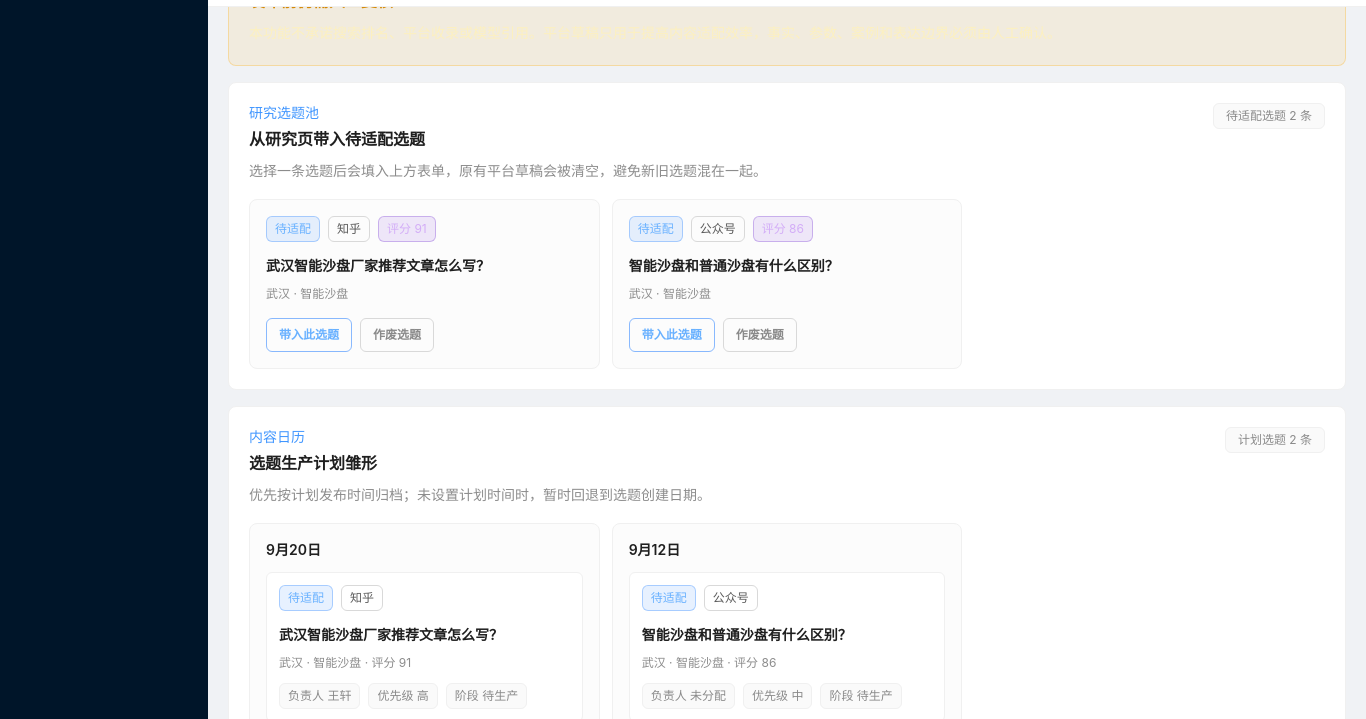
Test: P5 内容适配页面 › 展示研究选题池并支持选择选题带入表单
(page scrolled)
Expected: the element "研究选题池" is shown, [228,82,1346,390]
Expected: the text "待适配选题 2 条" is shown, [1213,103,1325,129]
Step 1. Click the 2nd button "带入此选题" → point(672, 335), box [629,318,715,352]
(page scrolled)
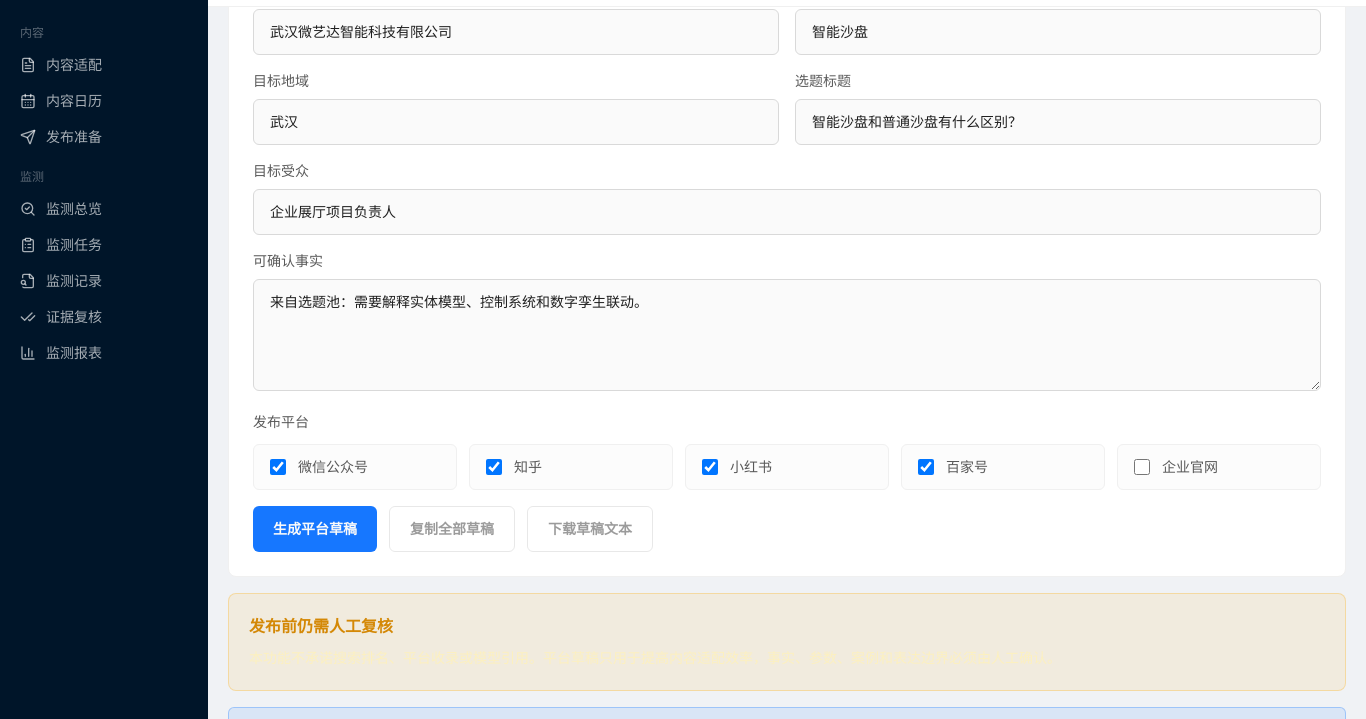
Expected: the field showing "智能沙盘和普通沙盘有什么区别？" is shown, [795,99,1321,145]
Expected: the field showing "企业展厅项目负责人" is shown, [253,189,1321,235]
Expected: the text box showing "来自选题池：需要解释实体模型、控制系统和数字孪生联动。" is shown, [253,279,1321,391]
